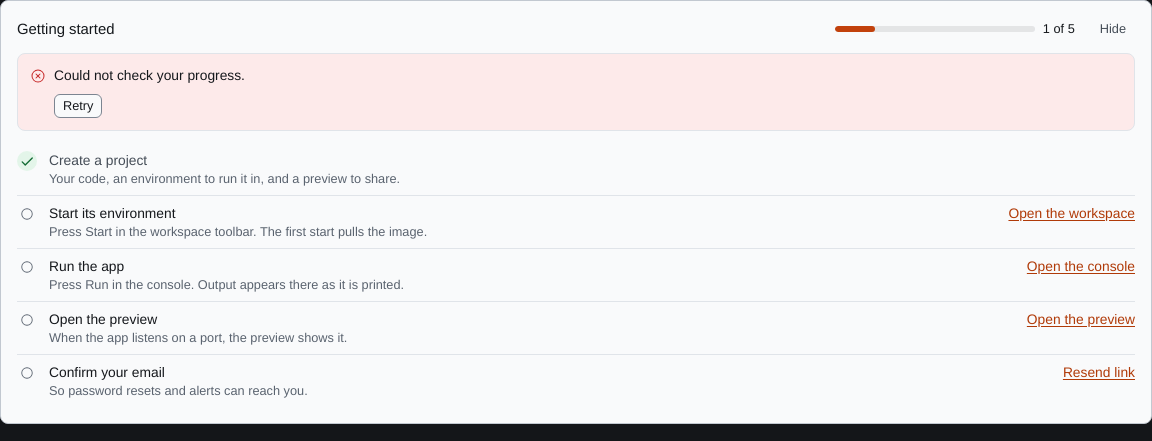
Test case: GettingStarted › says when progress could not be read and offers to try again
The width and height of the screenshot is (1152, 441).
Expected: the message shows "Could not check your progress.", x1=54 y1=67 x2=245 y2=84
Click the button "Retry". click: (78, 106)
box: x1=54 y1=94 x2=102 y2=118
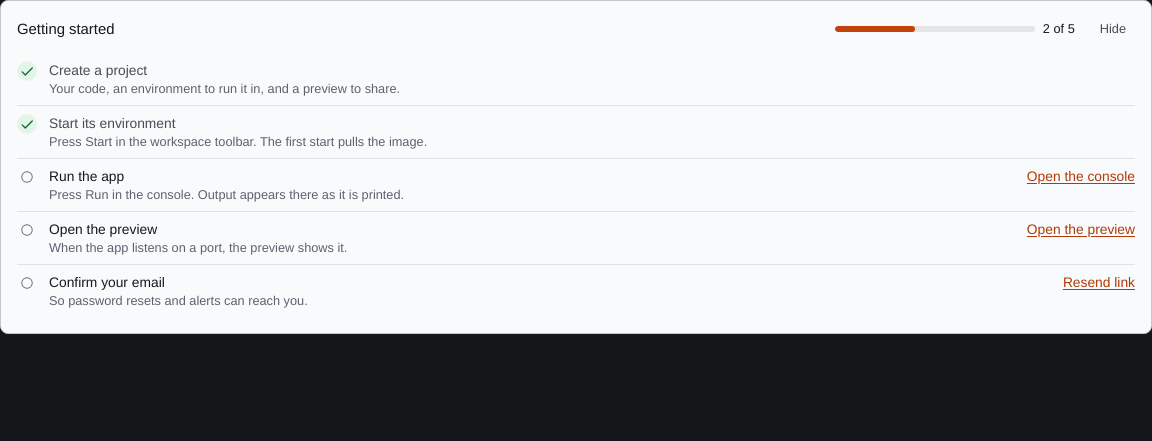
Expected: the message "Could not check your progress. Retry" is gone
